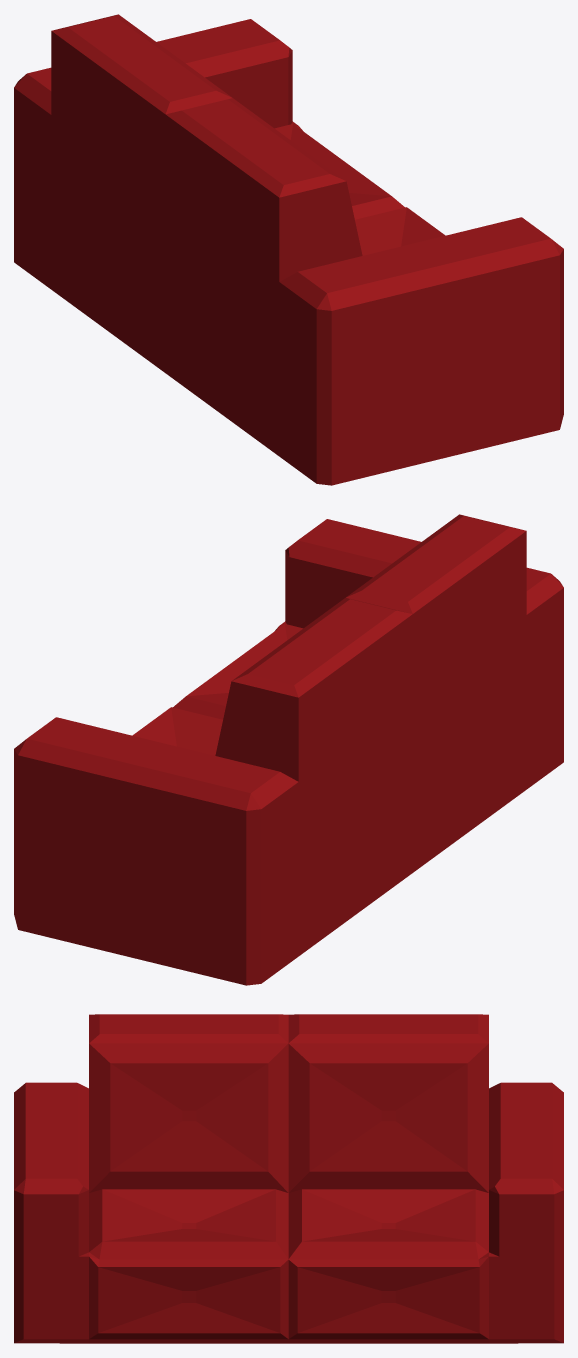
Rendered from Sofa.fbx.
3 views of the same model, one above another, from view 1: azimuth 30°, elevation 25°; view 2: azimuth 150°, elevation 25°; view 3: azimuth 270°, elevation 25° (orthographic). The views are drawn at different scales.
Parts seen in each view (by area): view 1: Cube; view 2: Cube; view 3: Cube.
Part boxes in pixels (x1,y1,x2,y2): Cube: (14,14,563,485); Cube: (14,514,563,985); Cube: (14,1014,563,1343).
Bounding box in the file's own units: 511 × 511 × 1098.
